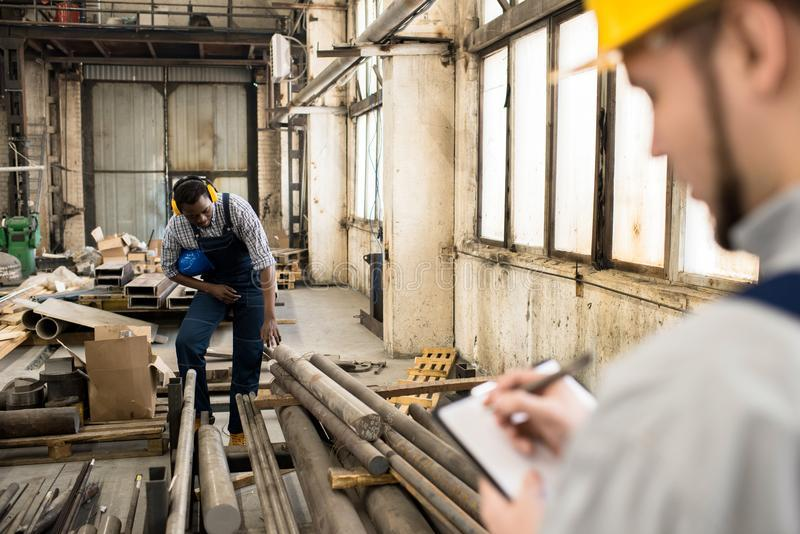helmet: (572, 1, 799, 77)
